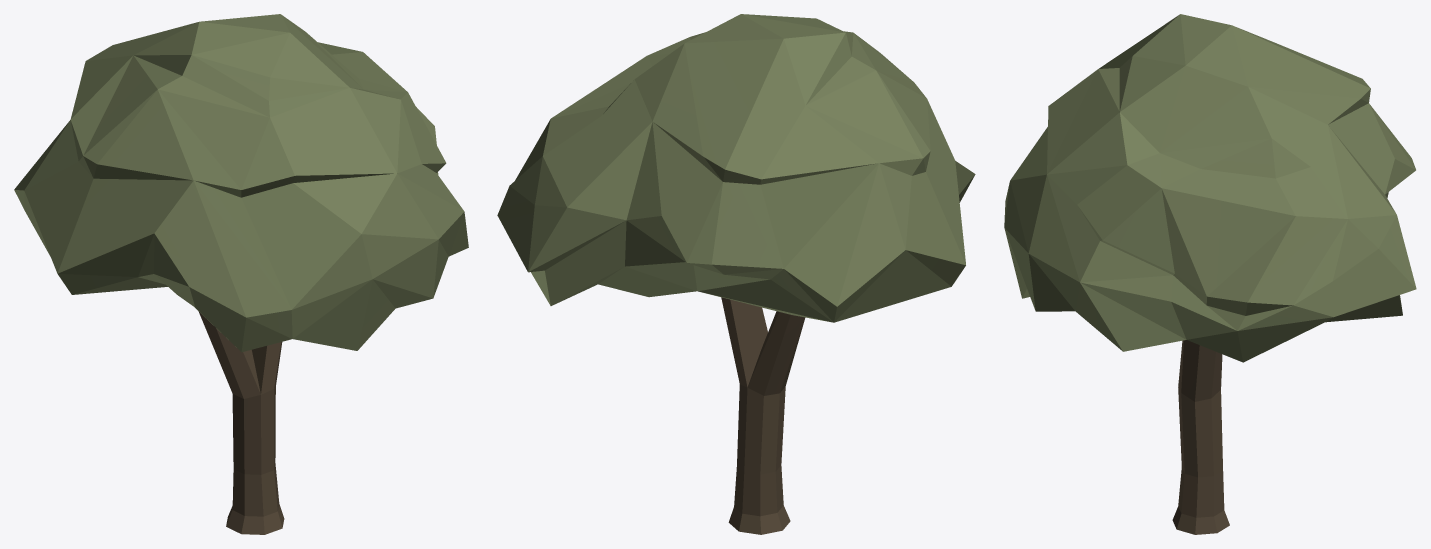
File: Game_Exporter(ASCII).fbx
The picture shows the model from 3 angles, left to right: view 1: azimuth 30°, elevation 25°; view 2: azimuth 150°, elevation 25°; view 3: azimuth 270°, elevation 25°; orthographic projection. The views are drawn at different scales.
Visible parts, largest first — view 1: SM_Tree_04; view 2: SM_Tree_04; view 3: SM_Tree_04.
Boxes of the visible parts, box(x1,y1,x2,y2) form: SM_Tree_04: box(14, 14, 468, 534); SM_Tree_04: box(497, 14, 975, 534); SM_Tree_04: box(1004, 14, 1416, 534).
Size of the model in its own units: 3987 by 4695 by 3665.
Materials: 1 (1 with a texture image).
